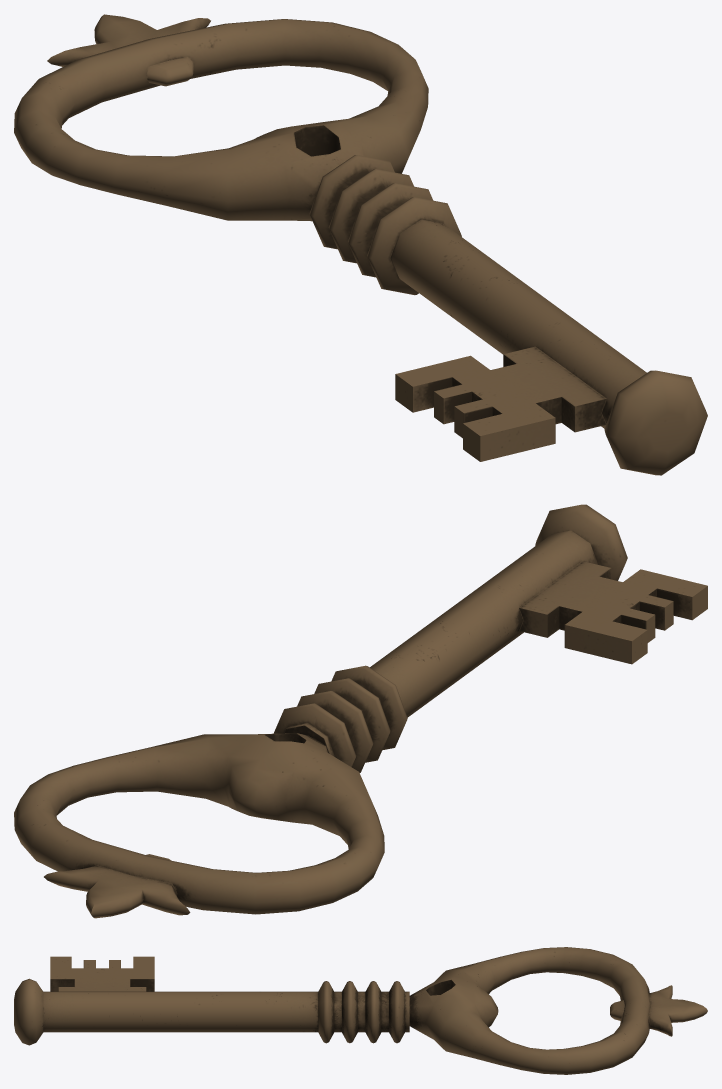
File: Key02.glb
The picture shows the model from 3 angles, top to bottom: view 1: azimuth 30°, elevation 25°; view 2: azimuth 150°, elevation 25°; view 3: azimuth 270°, elevation 25°; orthographic projection. The views are drawn at different scales.
Visible parts, largest first — view 1: NurbsPath; view 2: NurbsPath; view 3: NurbsPath.
Boxes of the visible parts, bbox=[...] form: NurbsPath: bbox=[14, 14, 707, 475]; NurbsPath: bbox=[14, 504, 707, 918]; NurbsPath: bbox=[14, 947, 707, 1074].
Bounding box in the file's own units: 0.0891 × 0.0236 × 0.2304.
1 material, 1 textured.
